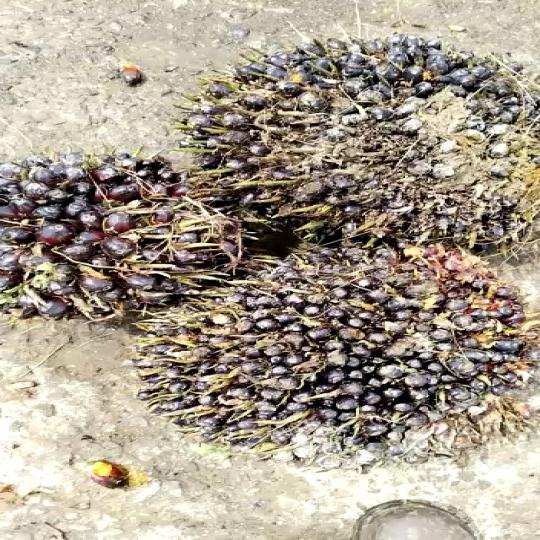mentah: (125, 241, 532, 458), (183, 38, 540, 251), (0, 153, 231, 316)
